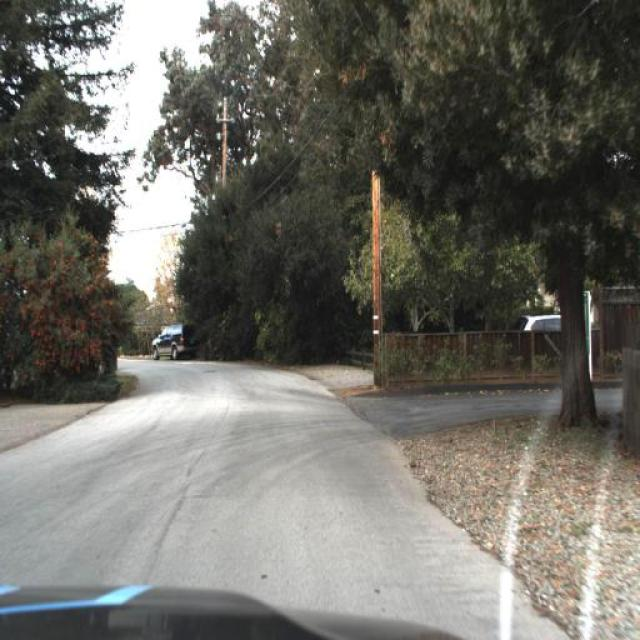car: (514, 304, 584, 346), (144, 314, 196, 370)
